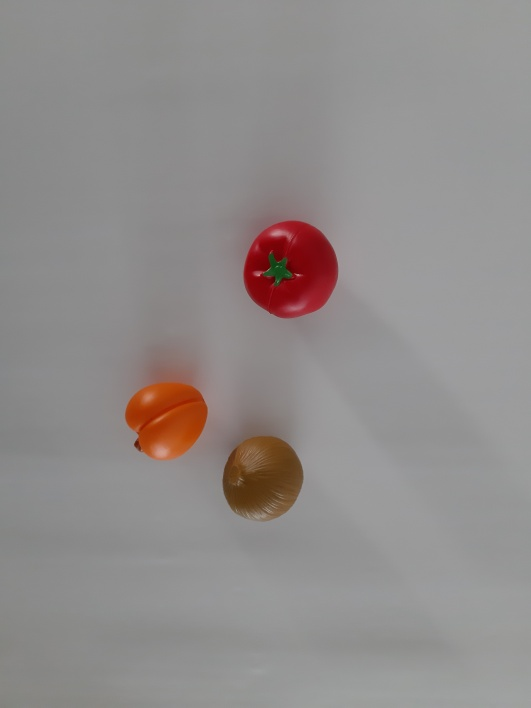apricot: (108, 366, 221, 474)
onion: (215, 425, 317, 535)
tomato: (231, 211, 349, 334)
